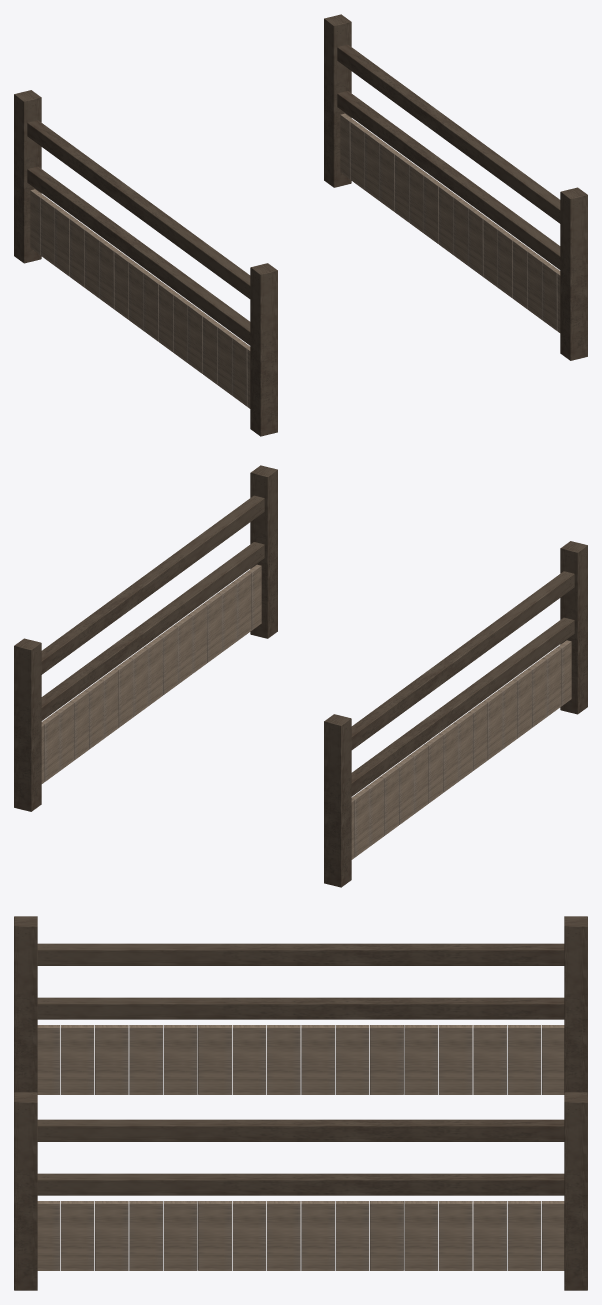
The model's file is BW_StableA02_Partitions.fbx.
3 renders of one model, top to bottom at view 1: azimuth 30°, elevation 25°; view 2: azimuth 150°, elevation 25°; view 3: azimuth 270°, elevation 25°, orthographic. The views are drawn at different scales.
Parts seen in each view (by area): view 1: BW_StableA02_Partitions; view 2: BW_StableA02_Partitions; view 3: BW_StableA02_Partitions.
Boxes of the visible parts, x1,y1,x2,y2 form: BW_StableA02_Partitions: [14, 14, 587, 436]; BW_StableA02_Partitions: [14, 465, 587, 887]; BW_StableA02_Partitions: [14, 916, 587, 1290].
Size of the model in its own units: 2.96 by 1.4 by 3.86.
